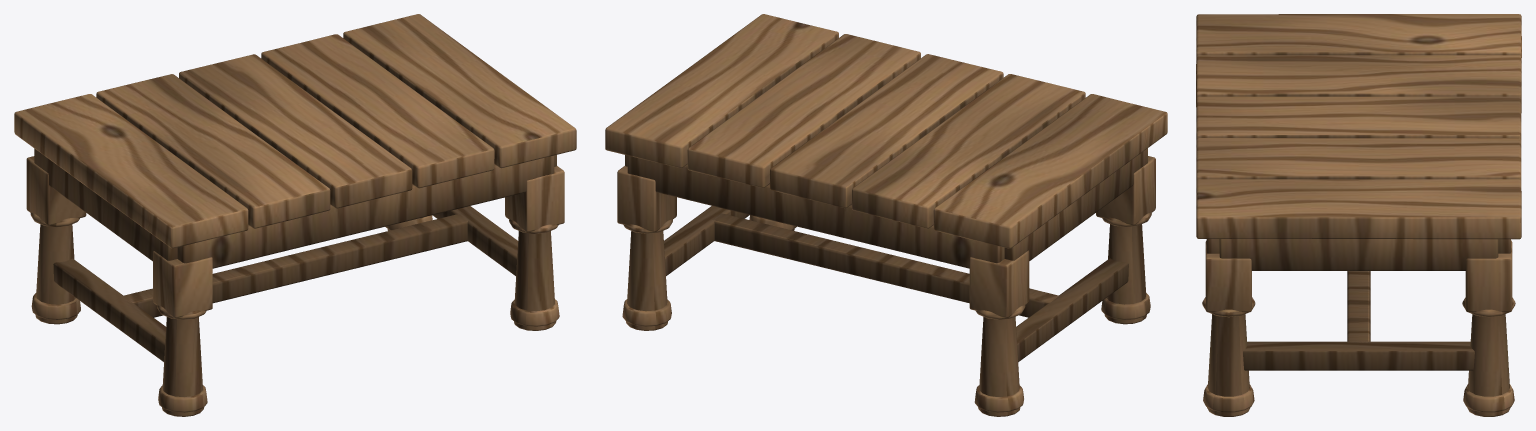
The model's file is p_table.glb.
The picture shows the model from 3 angles, left to right: view 1: azimuth 30°, elevation 25°; view 2: azimuth 150°, elevation 25°; view 3: azimuth 270°, elevation 25°; orthographic projection. The views are drawn at different scales.
Parts seen in each view (by area): view 1: table; view 2: table; view 3: table.
Part boxes in pixels (left/top/right/bottom): table: left=14, top=14, right=576, bottom=416; table: left=605, top=14, right=1167, bottom=416; table: left=1196, top=14, right=1521, bottom=416.
Bounding box in the file's own units: 1.04 × 0.4881 × 0.7015.
Materials: 1 (1 with a texture image).
